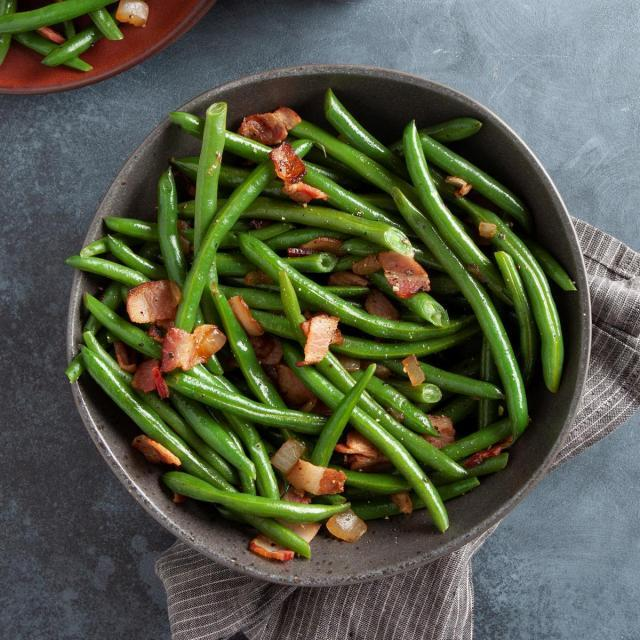Beans: (77, 95, 578, 563), (0, 0, 163, 75)
